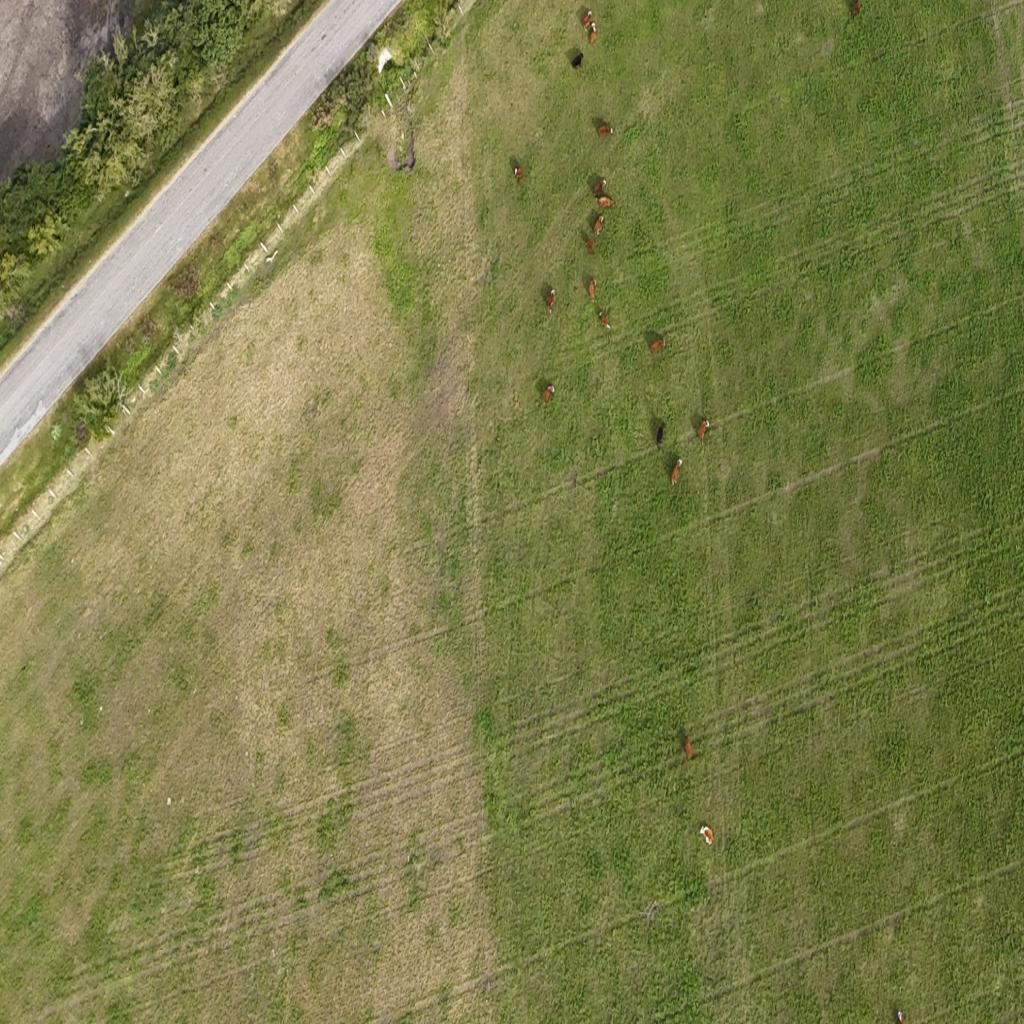cow: (700, 822, 716, 848), (670, 456, 683, 484), (698, 418, 710, 446), (649, 337, 665, 355), (593, 176, 606, 198), (570, 48, 584, 68), (542, 384, 555, 405), (684, 736, 694, 762), (588, 25, 599, 48), (655, 422, 665, 447), (593, 215, 604, 237), (598, 310, 610, 330), (849, 0, 861, 20), (546, 288, 555, 314), (598, 124, 613, 139), (582, 9, 592, 31), (588, 278, 596, 301), (585, 236, 594, 254), (514, 163, 522, 182)
